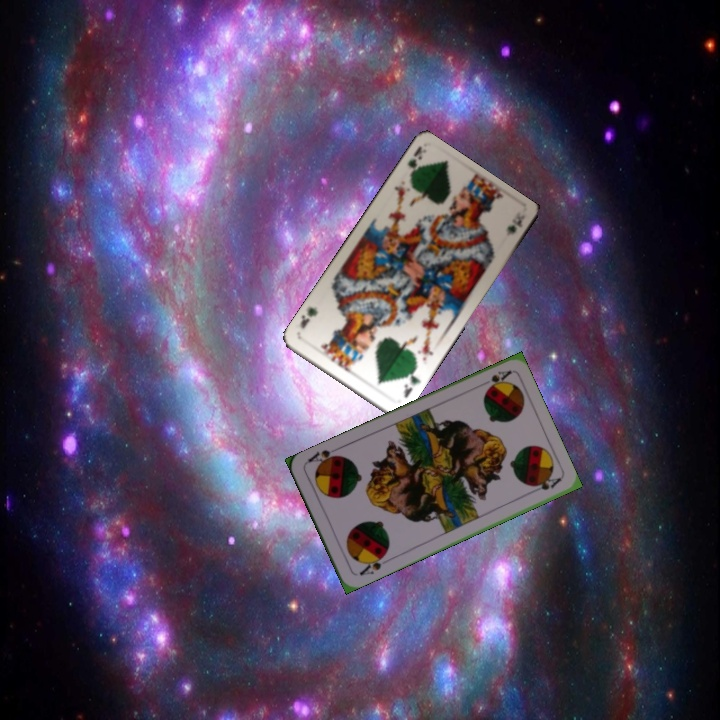GK: (403, 143, 428, 184), (400, 367, 423, 400)
SA: (475, 366, 514, 392), (355, 550, 389, 579)
